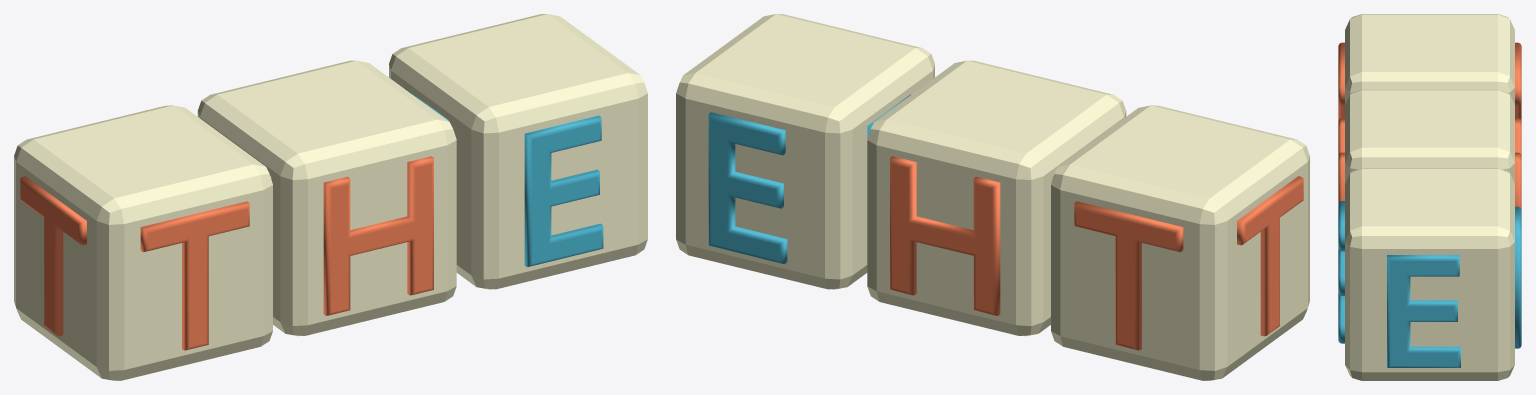
File: the.fbx
3 renders of one model, left to right at view 1: azimuth 30°, elevation 25°; view 2: azimuth 150°, elevation 25°; view 3: azimuth 270°, elevation 25°, orthographic. The views are drawn at different scales.
Parts seen in each view (by area): view 1: The; view 2: The; view 3: The.
Part boxes in pixels (x1,y1,x2,y2): The: [14, 14, 647, 380]; The: [676, 14, 1309, 380]; The: [1338, 14, 1521, 380].
Size of the model in its own units: 646 by 200 by 216.
